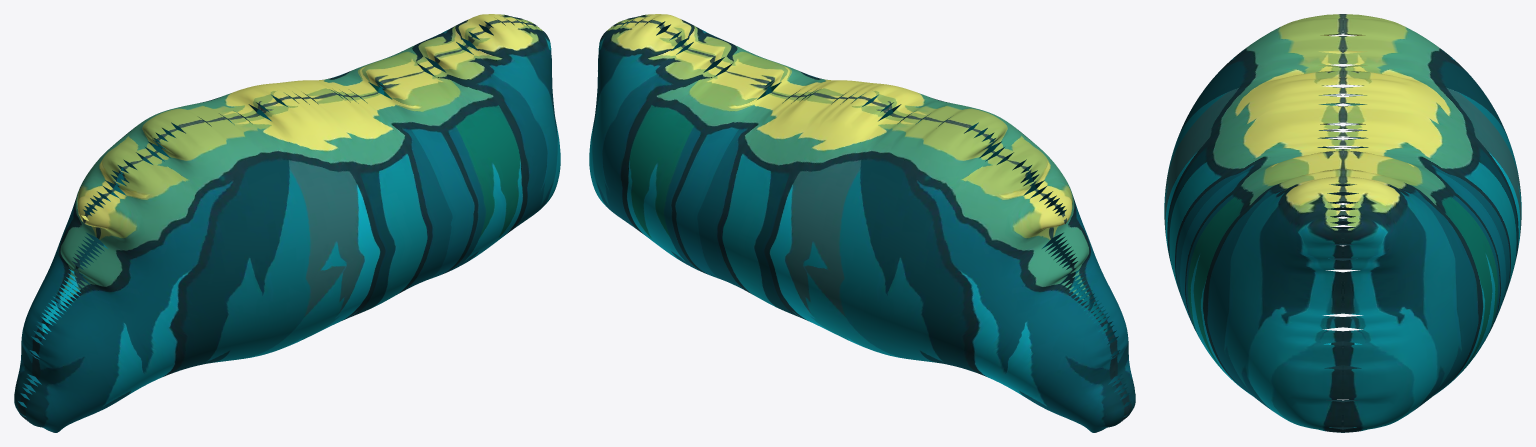
Rendered from cliff_bank.glb.
3 renders of one model, left to right at view 1: azimuth 30°, elevation 25°; view 2: azimuth 150°, elevation 25°; view 3: azimuth 270°, elevation 25°, orthographic. The views are drawn at different scales.
Parts seen in each view (by area): view 1: cliff_bank; view 2: cliff_bank; view 3: cliff_bank.
Boxes of the visible parts, <box> form: cliff_bank: <box>14,14,560,432</box>; cliff_bank: <box>589,14,1135,432</box>; cliff_bank: <box>1164,14,1521,432</box>.
Size of the model in its own units: 0.9889 by 0.5262 by 0.4575.
Materials: 1 (1 with a texture image).
